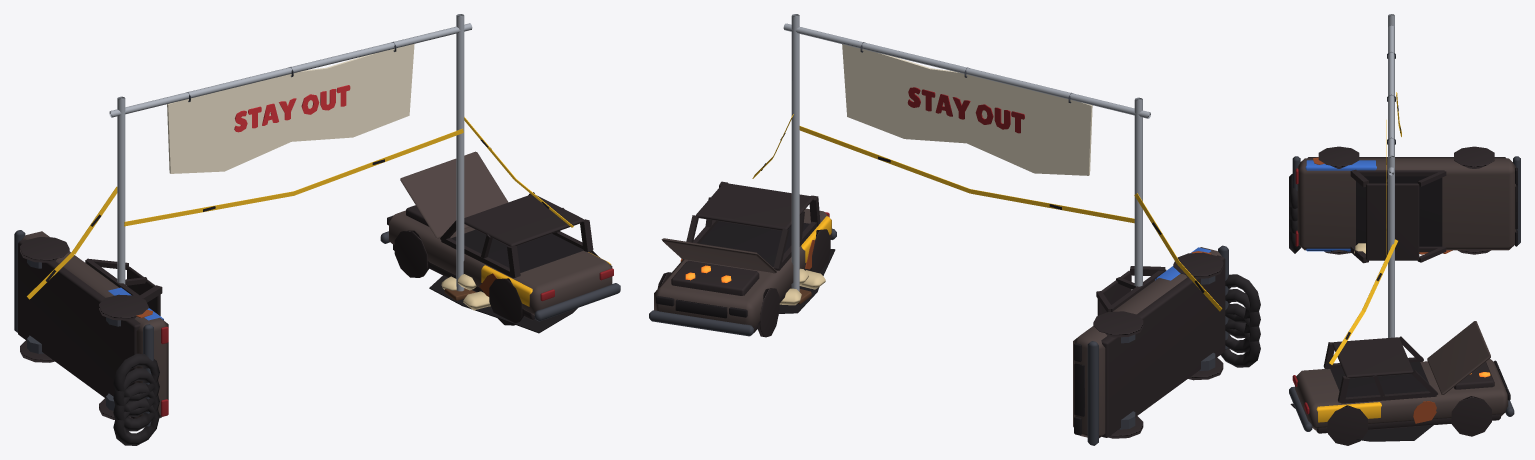
File: city_gate_barricade_frame.glb
The picture shows the model from 3 angles, left to right: view 1: azimuth 30°, elevation 25°; view 2: azimuth 150°, elevation 25°; view 3: azimuth 270°, elevation 25°; orthographic projection. The views are drawn at different scales.
Parts seen in each view (by area): view 1: Frame; view 2: Frame; view 3: Frame.
Boxes of the visible parts, x1,y1,x2,y2 form: Frame: (14,14,620,445); Frame: (649,14,1260,445); Frame: (1289,14,1520,445).
Size of the model in its own units: 10.49 by 5.51 by 4.57.
